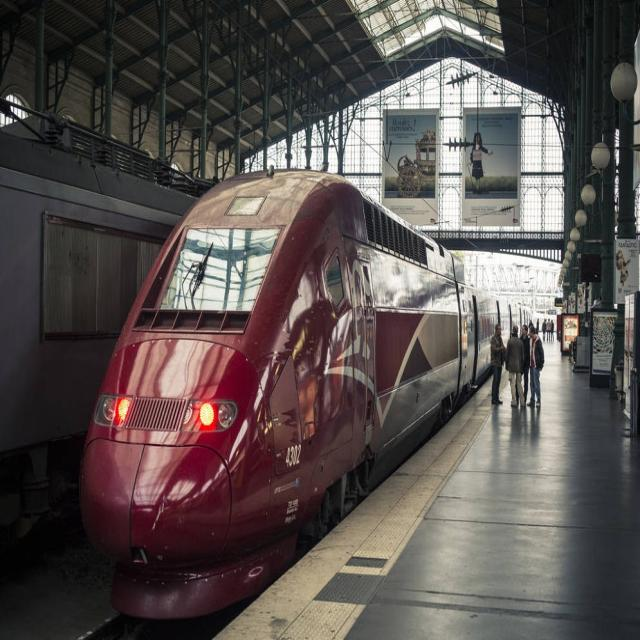body: (462, 126, 495, 201), (504, 324, 528, 411), (526, 324, 546, 410), (490, 322, 508, 406), (514, 322, 530, 410), (612, 245, 633, 291), (545, 316, 552, 342), (542, 316, 548, 342), (550, 318, 554, 342), (536, 317, 540, 336), (528, 318, 534, 327)
